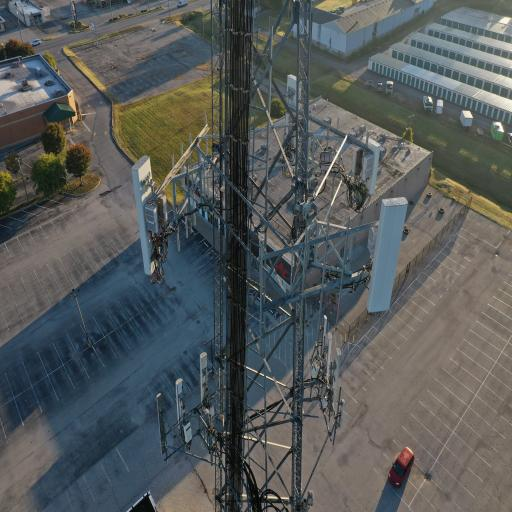supporting_tower: (127, 0, 412, 512)
